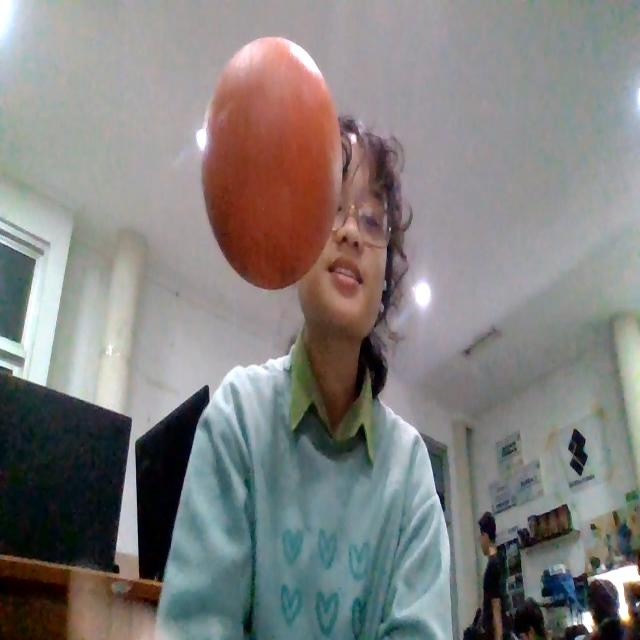ball: (200, 34, 342, 290)
